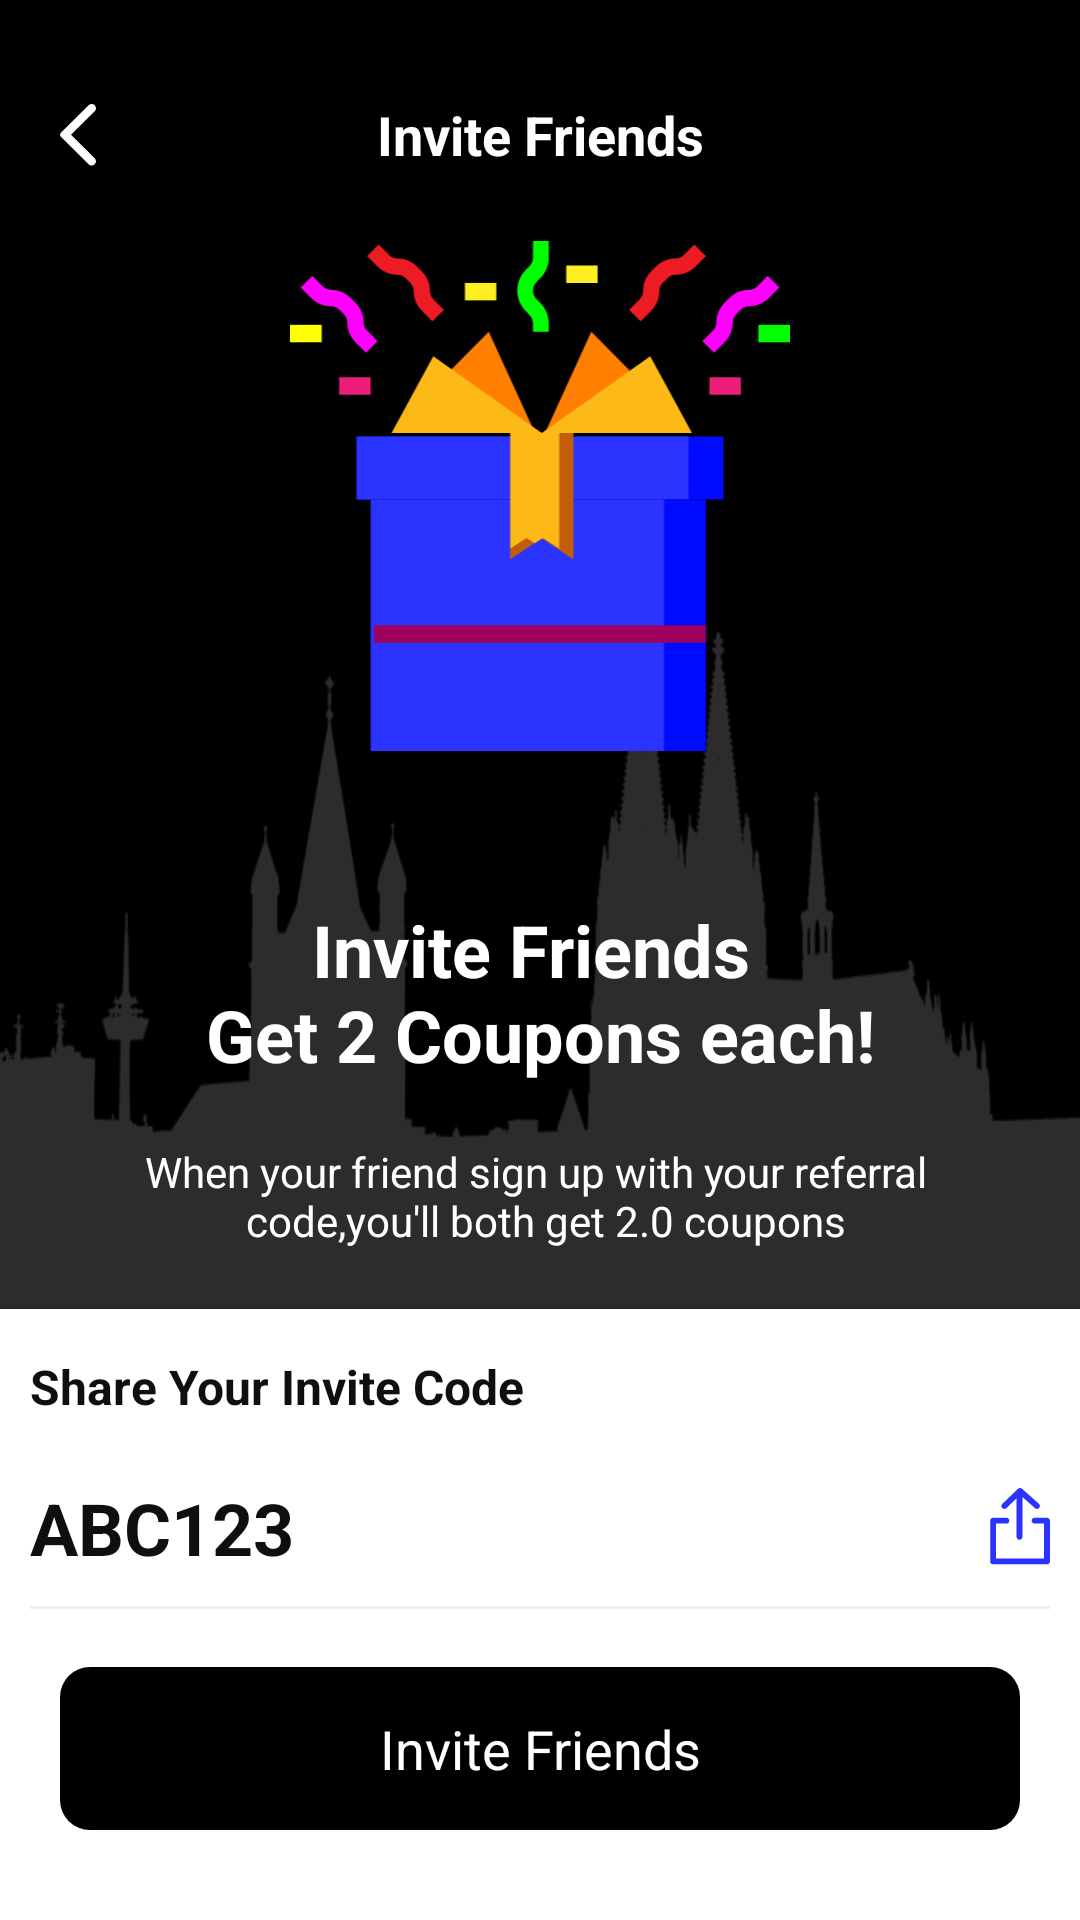

Icon bounding boxes for this 1080w x 1920h phone screenshot, format rect(x1, y1, x2, y2):
left arrow: rect(60, 104, 96, 166)
